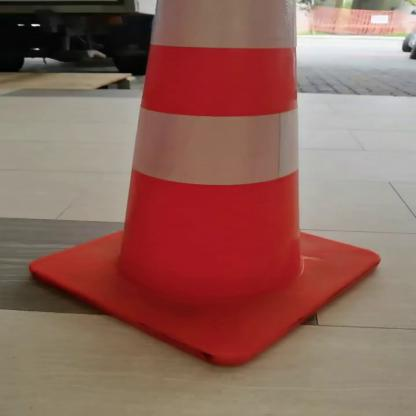cone: (23, 0, 394, 377)
